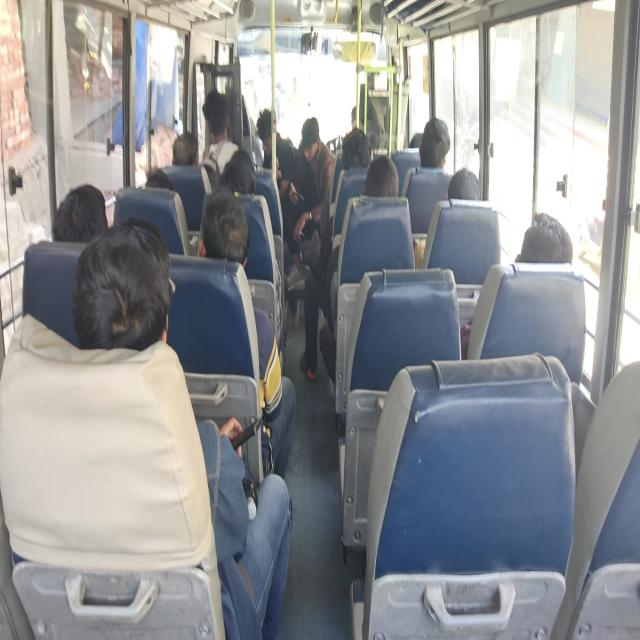person: (80, 245, 166, 343), (517, 210, 585, 274), (48, 186, 104, 248), (204, 196, 247, 257), (300, 116, 332, 176), (222, 158, 268, 198), (364, 160, 400, 211), (453, 168, 490, 215), (423, 114, 451, 176), (342, 130, 380, 174), (203, 98, 233, 142), (167, 141, 200, 176), (255, 106, 277, 147), (142, 172, 174, 196), (407, 130, 426, 154)
